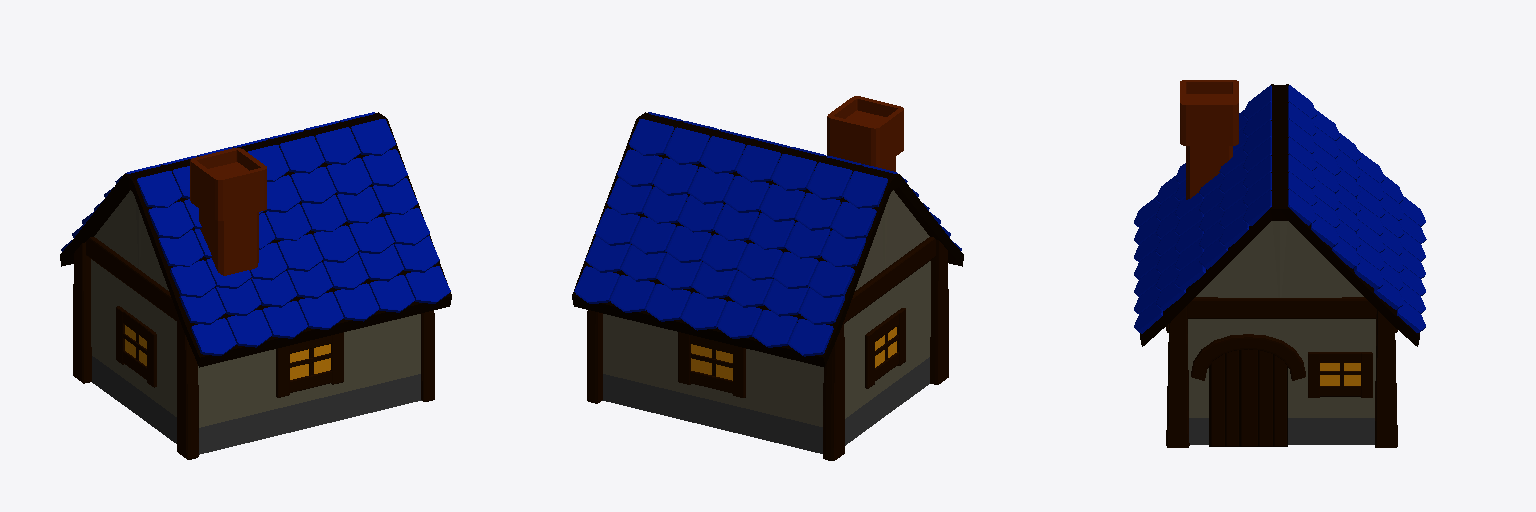
The model's file is House_Level1_BlueTeam.obj.
3 views of the same model, side by side, from view 1: azimuth 30°, elevation 25°; view 2: azimuth 150°, elevation 25°; view 3: azimuth 270°, elevation 25° (orthographic).
Parts seen in each view (by area): view 1: House_Level1_BlueTeam_Cube.044; view 2: House_Level1_BlueTeam_Cube.044; view 3: House_Level1_BlueTeam_Cube.044.
Part boxes in pixels (left/top/right/bottom): House_Level1_BlueTeam_Cube.044: left=60, top=112, right=451, bottom=459; House_Level1_BlueTeam_Cube.044: left=572, top=96, right=963, bottom=460; House_Level1_BlueTeam_Cube.044: left=1134, top=80, right=1426, bottom=447.
Bounding box in the file's own units: 11.22 × 11.19 × 11.16.